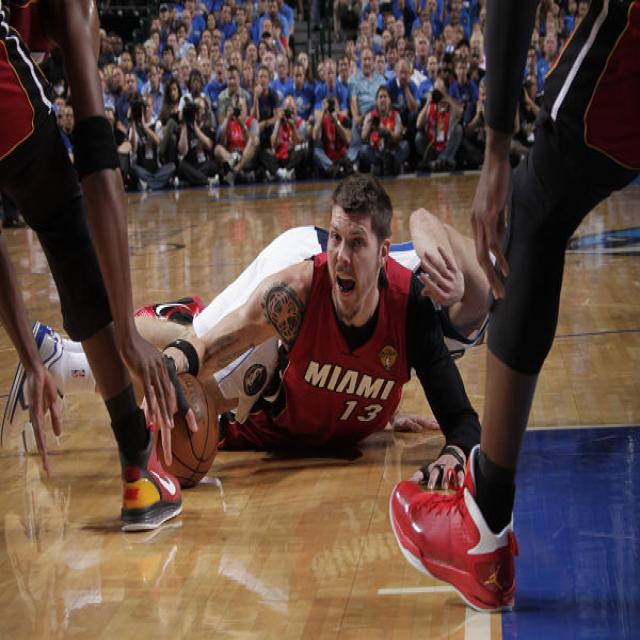10-: (2, 2, 638, 616)
down: (0, 174, 499, 460)
